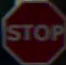Stop: (2, 6, 60, 53)
